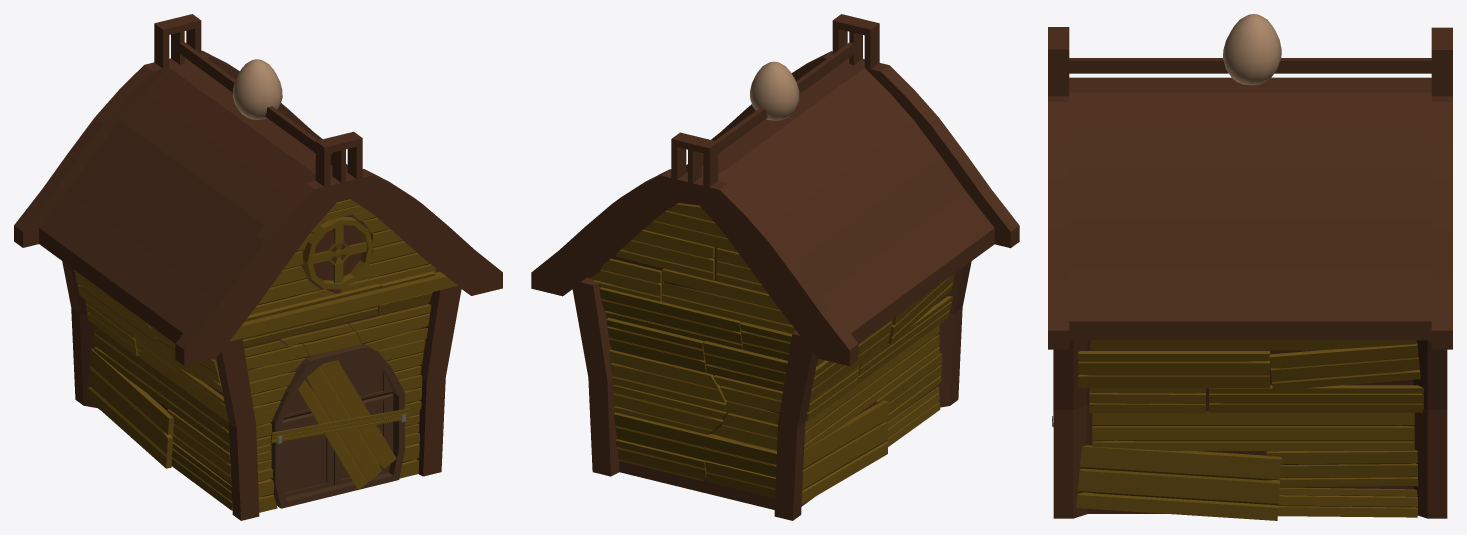
File: Poulailler.fbx
3 renders of one model, left to right at view 1: azimuth 30°, elevation 25°; view 2: azimuth 150°, elevation 25°; view 3: azimuth 270°, elevation 25°, orthographic. The views are drawn at different scales.
Parts seen in each view (by area): view 1: Cube, Cube.085, Cube.011, Cube.001, Cube.010, Cube.078, Cube.076, Cube.080, Cube.064, Sphere, Cube.050, Cube.063 (+20 smaller); view 2: Cube, Cube.011, Cube.044, Cube.025, Cube.036, Cube.010, Cube.040, Cube.037, Cube.023, Cube.043, Cube.039, Cube.004 (+14 smaller); view 3: Cube, Cube.055, Cube.056, Cube.060, Cube.058, Cube.059, Cube.054, Cube.053, Cube.061, Sphere, Cube.057.
Boxes of the visible parts, x1=… form: Cube: x1=14, y1=14, x2=502, y2=520; Cube.085: x1=298, y1=360, x2=396, y2=489; Cube.011: x1=87, y1=349, x2=173, y2=468; Cube.001: x1=270, y1=344, x2=404, y2=508; Cube.010: x1=94, y1=325, x2=229, y2=453; Cube.078: x1=275, y1=350, x2=333, y2=500; Cube.076: x1=229, y1=271, x2=457, y2=341; Cube.080: x1=334, y1=343, x2=393, y2=485; Cube.064: x1=349, y1=304, x2=431, y2=351; Sphere: x1=233, y1=59, x2=282, y2=119; Cube.050: x1=339, y1=241, x2=435, y2=292; Cube.063: x1=242, y1=283, x2=381, y2=346; Cube: x1=531, y1=14, x2=1019, y2=520; Cube.011: x1=801, y1=400, x2=888, y2=504; Cube.044: x1=613, y1=412, x2=776, y2=477; Cube.025: x1=662, y1=268, x2=796, y2=333; Cube.036: x1=599, y1=287, x2=743, y2=349; Cube.010: x1=804, y1=324, x2=939, y2=449; Cube.040: x1=608, y1=349, x2=726, y2=411; Cube.037: x1=606, y1=317, x2=706, y2=371; Cube.023: x1=616, y1=229, x2=714, y2=280; Cube.043: x1=613, y1=385, x2=727, y2=434; Cube.039: x1=703, y1=340, x2=787, y2=390; Cube.004: x1=643, y1=203, x2=737, y2=252; Cube: x1=1048, y1=27, x2=1452, y2=518; Cube.055: x1=1076, y1=445, x2=1281, y2=520; Cube.056: x1=1092, y1=411, x2=1414, y2=450; Cube.060: x1=1078, y1=351, x2=1269, y2=387; Cube.058: x1=1209, y1=385, x2=1424, y2=412; Cube.059: x1=1269, y1=343, x2=1420, y2=390; Cube.054: x1=1266, y1=450, x2=1418, y2=486; Cube.053: x1=1278, y1=487, x2=1417, y2=517; Cube.061: x1=1090, y1=340, x2=1416, y2=350; Sphere: x1=1223, y1=14, x2=1281, y2=85; Cube.057: x1=1089, y1=388, x2=1205, y2=413.
Bounding box in the file's own units: 160 × 180 × 148.
